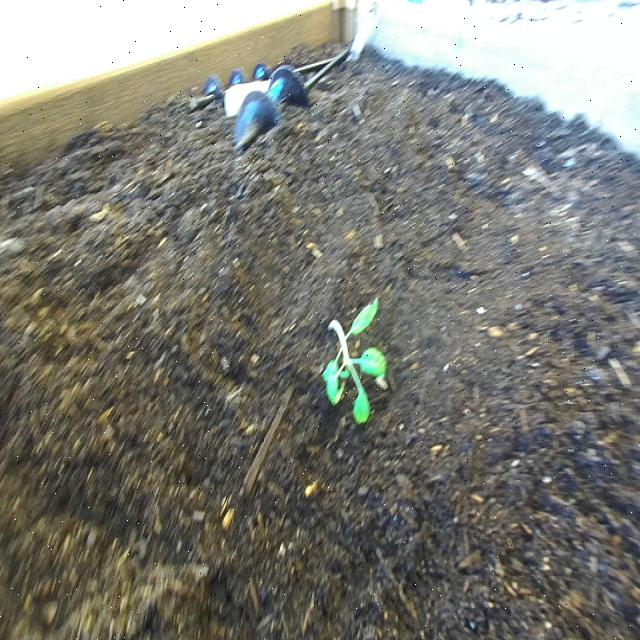Unhealthy: (317, 295, 397, 427)
